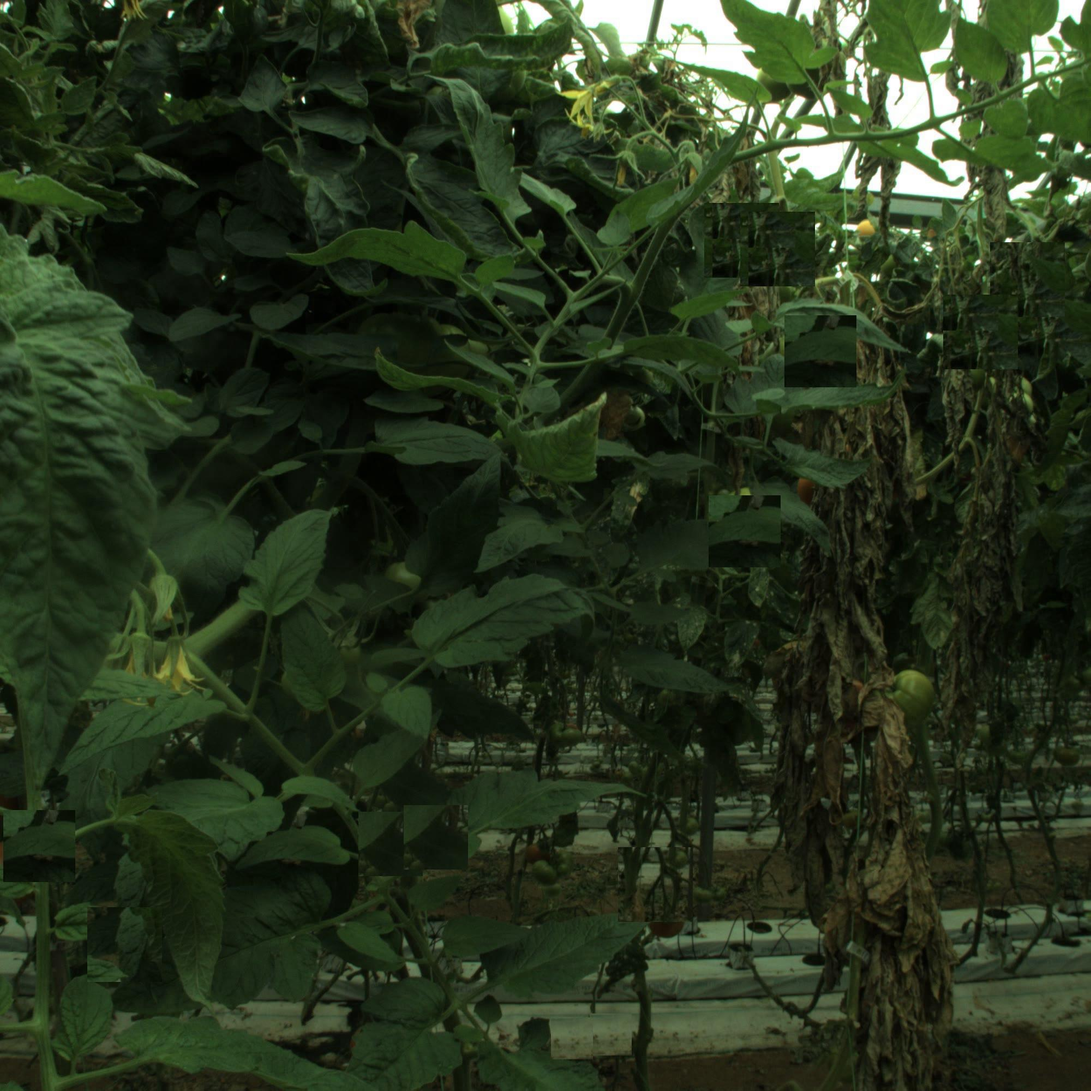['unripe', 'semi-ripe', 'fully-ripe']: (879, 669, 936, 726)
